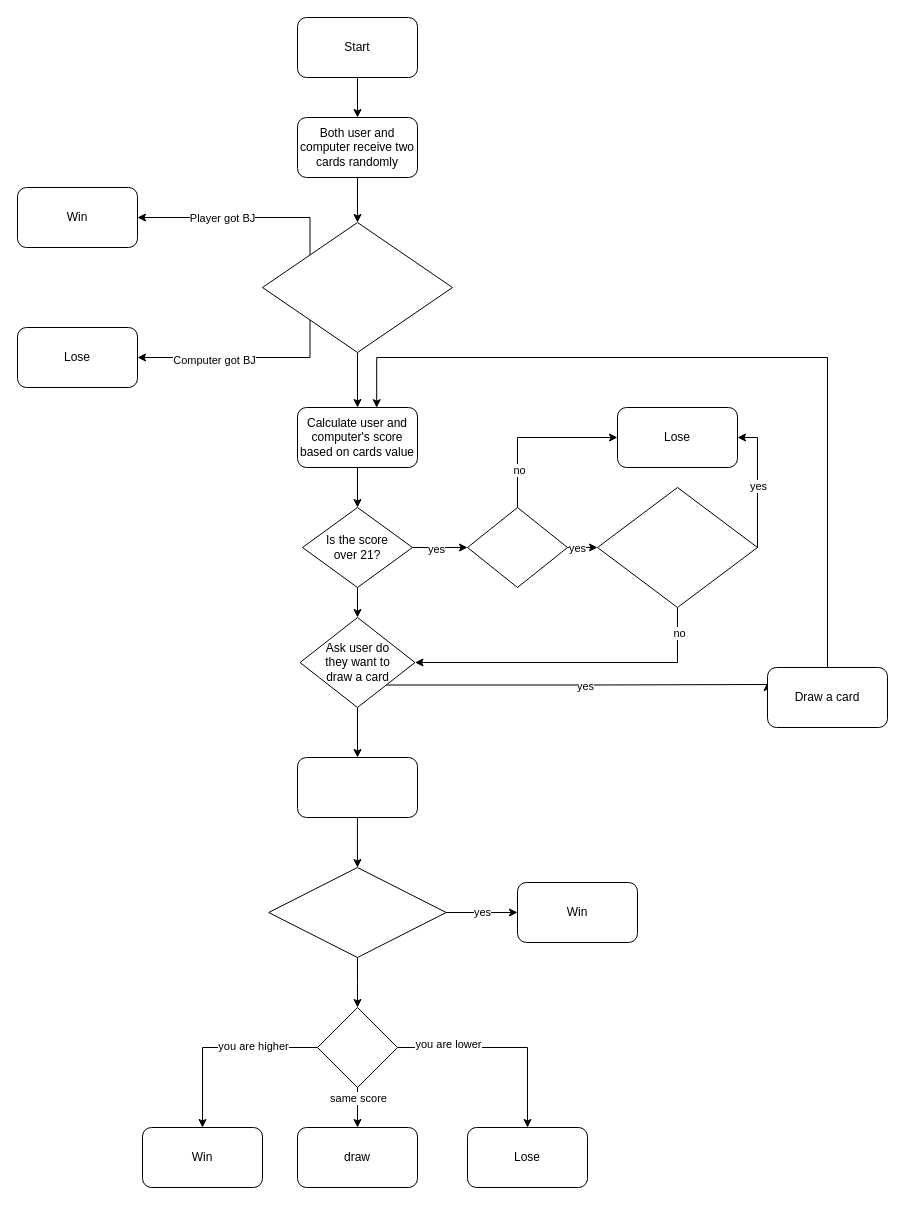
Some shapes in this 905 by 1205 pixel diagram are drawn without their labels. Here are the shapes that lost their labels. From the top down, the box of each, then its label:
(262, 222, 452, 352): Detect if anyone get black jack (Ace + 10)
(466, 506, 568, 588): Do they have an Ace
(596, 486, 758, 608): If ace counts 1 instead of 11, their total score still over 21?
(296, 756, 418, 818): Check total score, computer turn starts, draw if score is less than 17
(268, 866, 446, 958): Computer over 21?
(316, 1006, 398, 1088): Compare score
